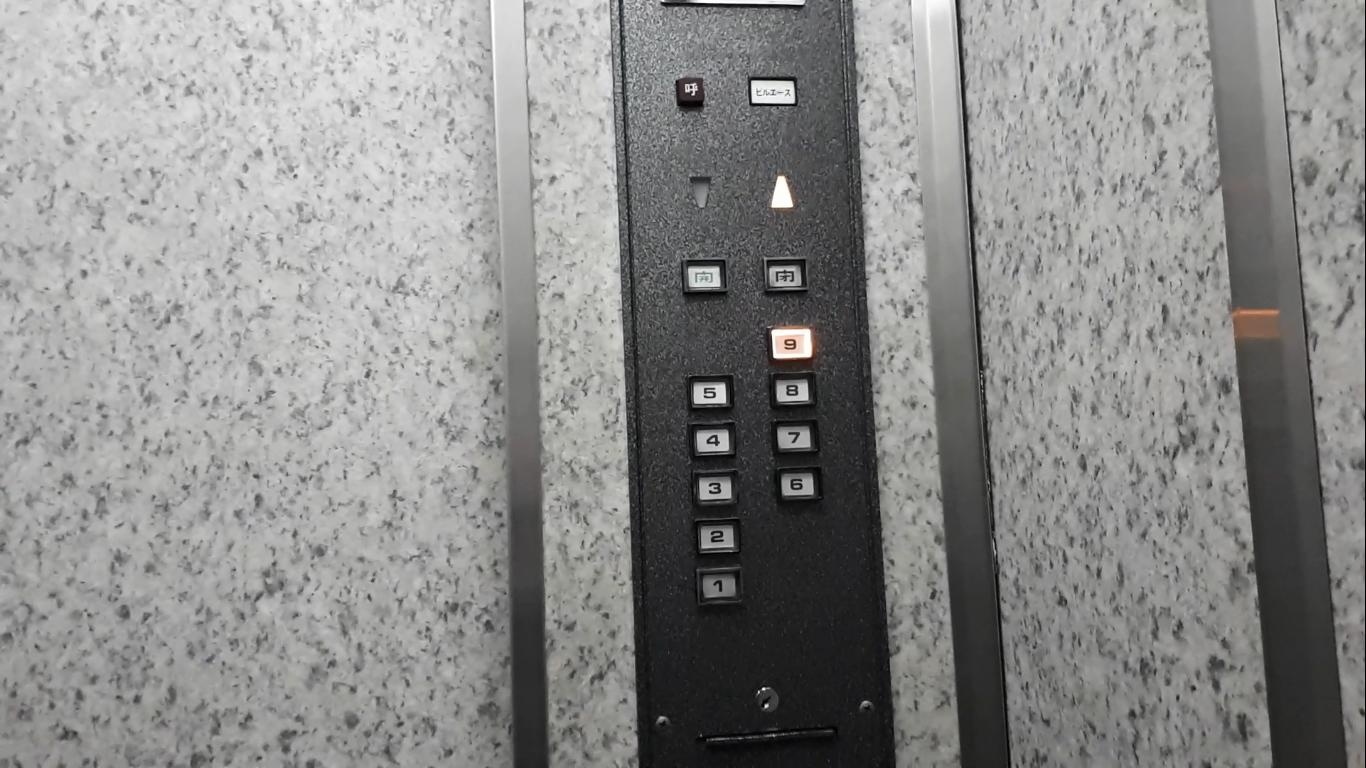1: (691, 562, 747, 611)
2: (690, 513, 745, 558)
3: (688, 463, 743, 509)
4: (685, 417, 741, 461)
5: (682, 370, 737, 413)
6: (770, 463, 826, 506)
7: (766, 414, 822, 458)
8: (765, 368, 822, 412)
9: (766, 323, 819, 365)
down: (686, 170, 717, 211)
keyhole: (749, 682, 784, 717)
text: (759, 252, 811, 297), (677, 256, 731, 298), (744, 73, 802, 109), (672, 75, 707, 112)
up: (766, 171, 797, 212)
